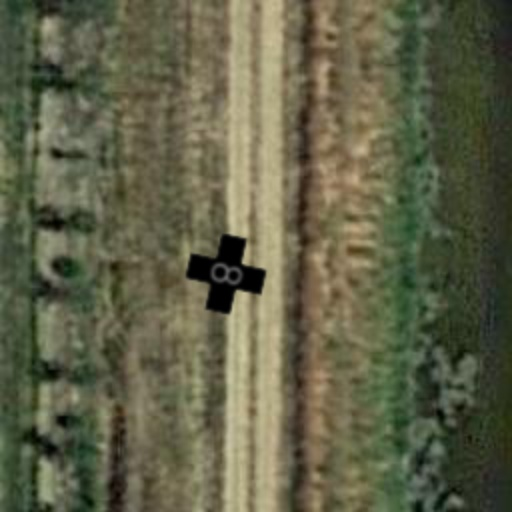cross: (178, 226, 274, 322)
